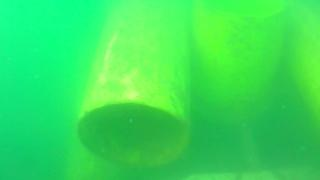pipe: (77, 1, 191, 169), (192, 1, 288, 133), (289, 1, 320, 133), (65, 135, 139, 179), (183, 165, 320, 180)
